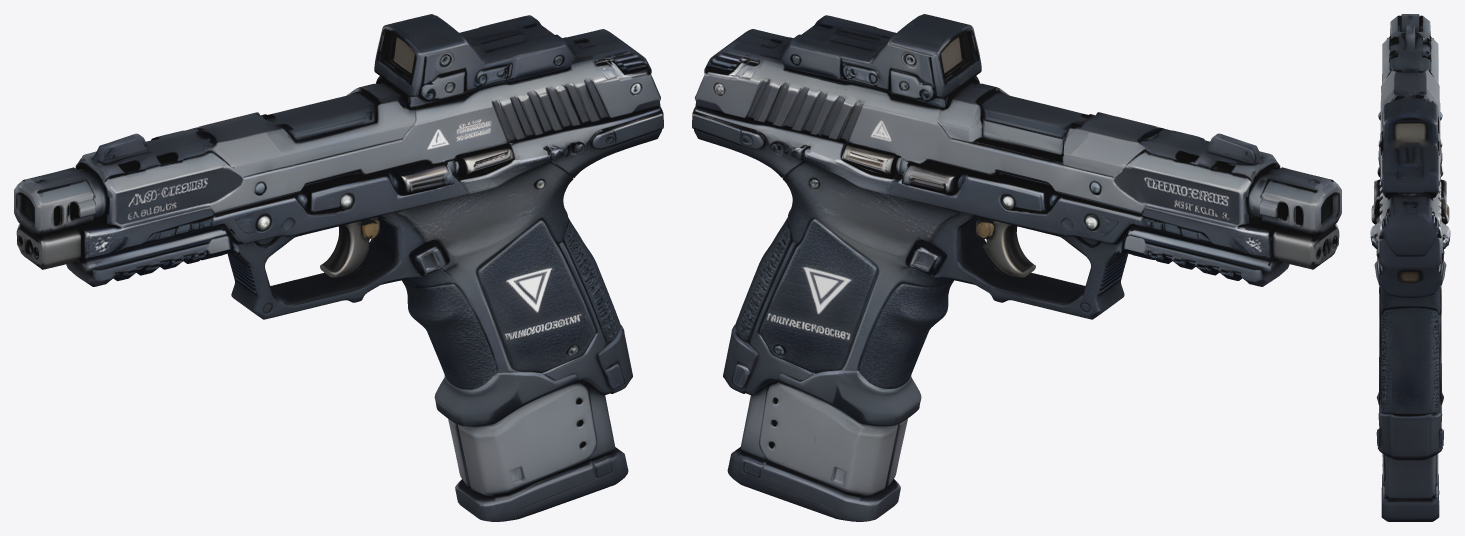
Rendered from handgun.glb.
3 views of the same model, side by side, from view 1: azimuth 30°, elevation 25°; view 2: azimuth 150°, elevation 25°; view 3: azimuth 270°, elevation 25° (orthographic). The views are drawn at different scales.
Parts seen in each view (by area): view 1: Object_4; view 2: Object_4; view 3: Object_4.
Boxes of the visible parts, x1=… form: Object_4: x1=14, y1=14, x2=663, y2=521; Object_4: x1=692, y1=14, x2=1341, y2=521; Object_4: x1=1370, y1=14, x2=1450, y2=521.
Size of the model in its own units: 1.04 by 0.8092 by 0.1628.
1 material, 1 textured.
